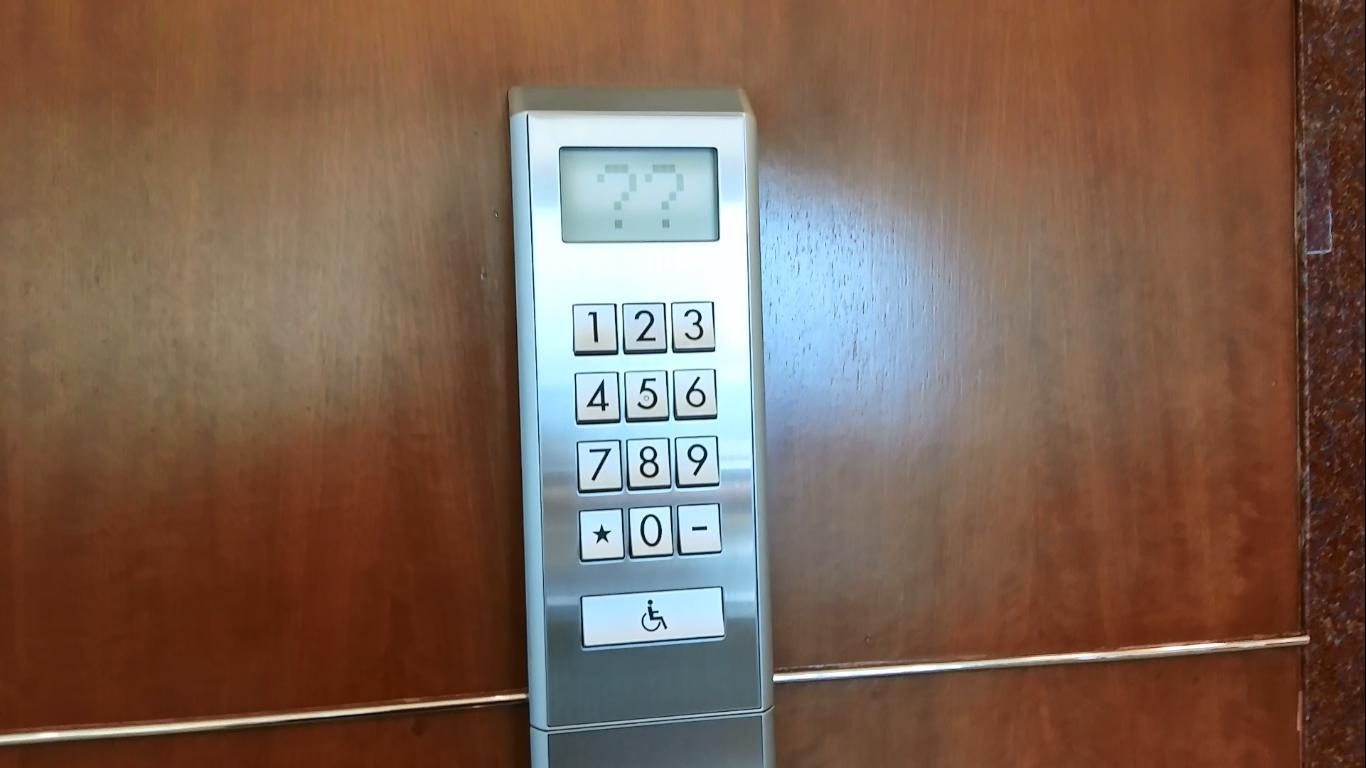-: (673, 499, 726, 556)
0: (628, 503, 676, 561)
1: (569, 299, 617, 356)
2: (623, 302, 667, 358)
3: (669, 299, 716, 356)
4: (574, 371, 619, 425)
5: (622, 365, 670, 423)
6: (672, 365, 720, 424)
7: (575, 437, 620, 494)
8: (622, 435, 670, 490)
9: (672, 433, 723, 489)
CH: (578, 584, 730, 650)
led: (555, 141, 719, 247)
s: (578, 504, 624, 565)
